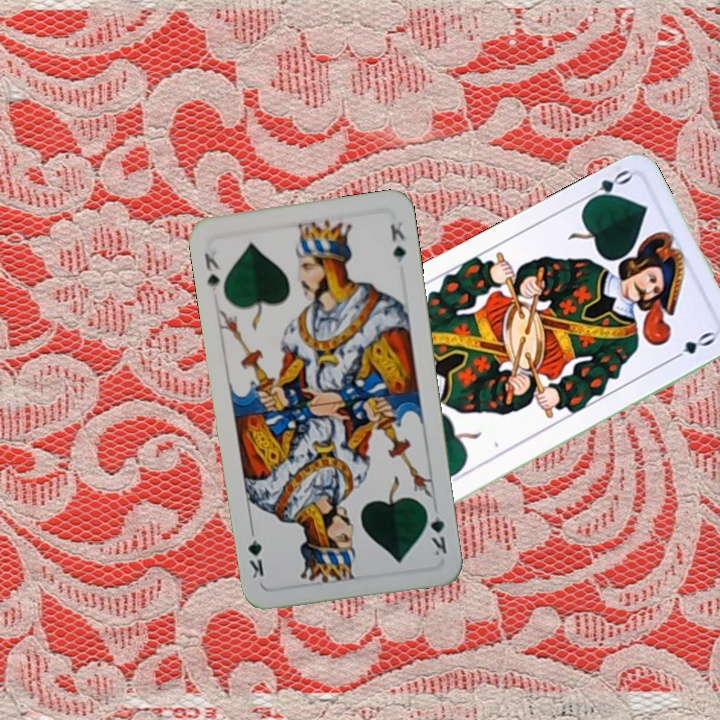GK: (422, 502, 450, 558), (200, 249, 222, 294)
GO: (578, 165, 634, 207)
